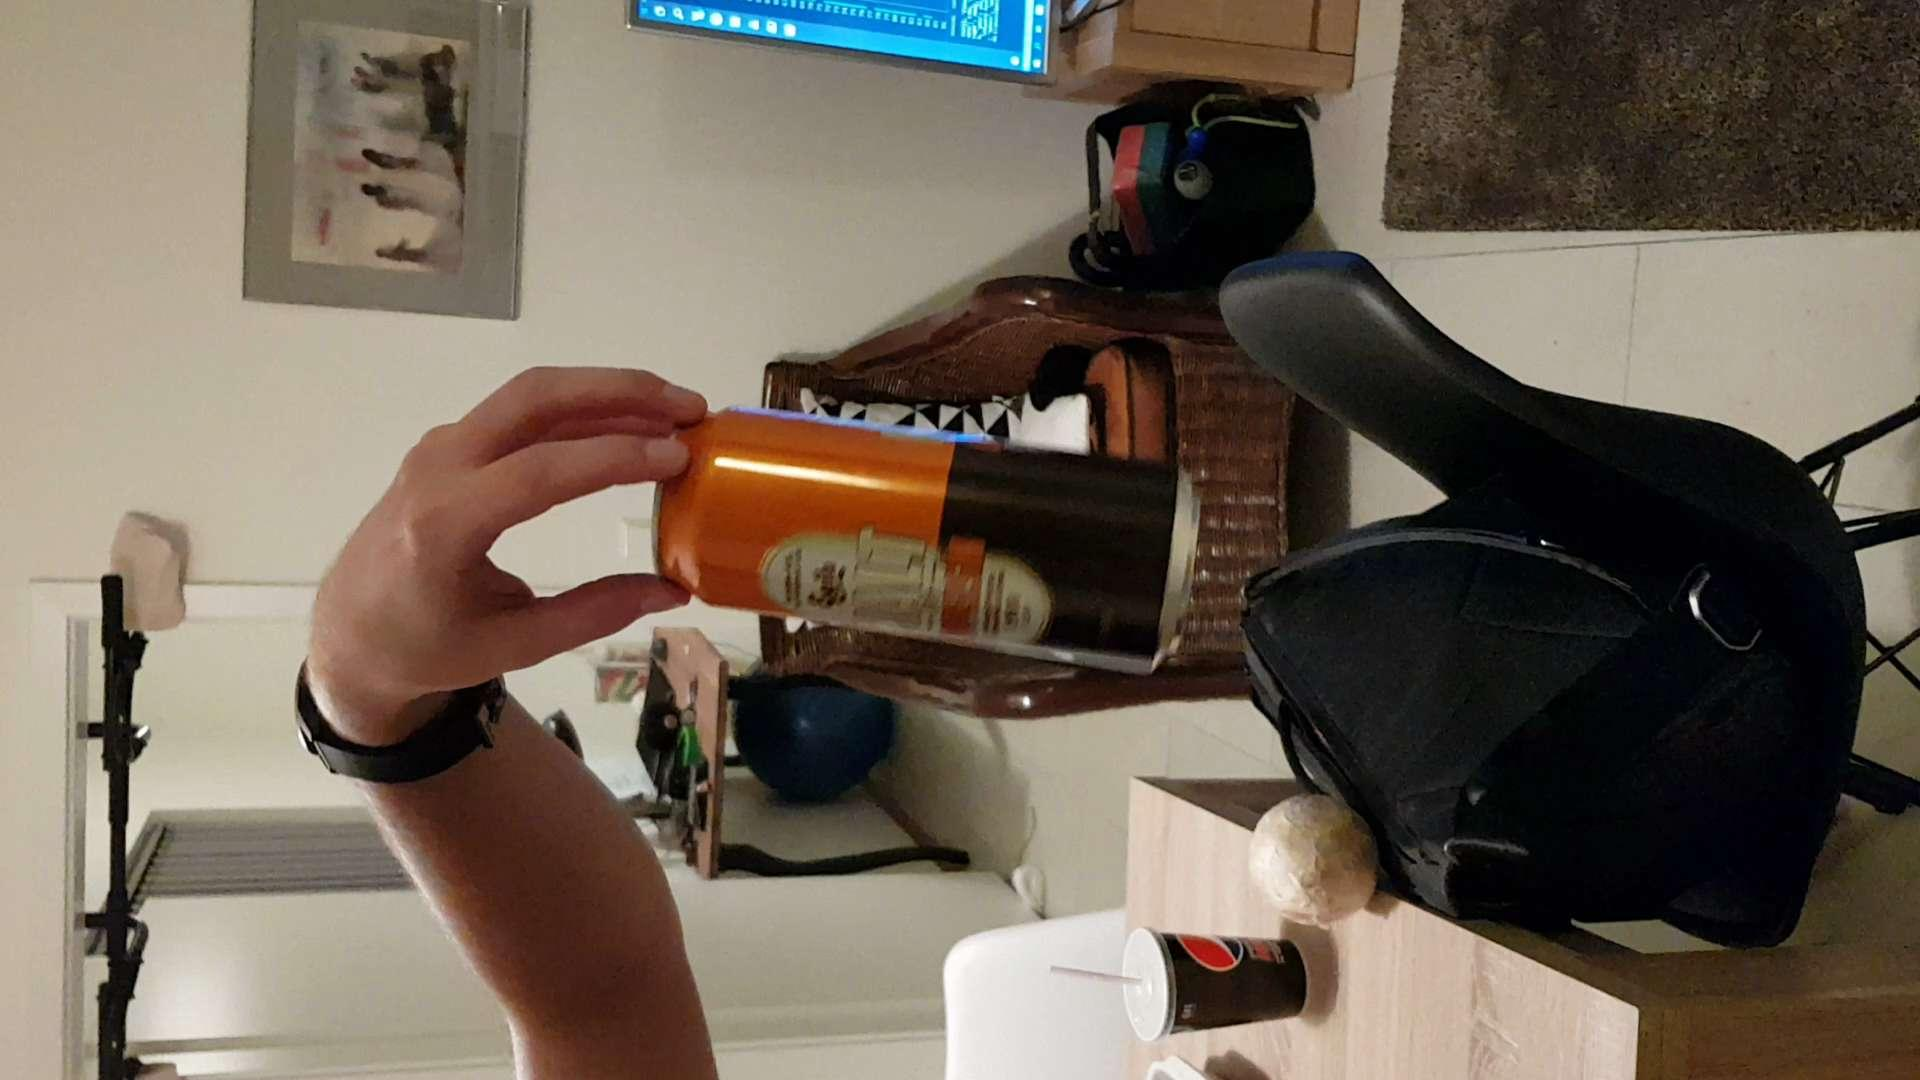Can: (644, 410, 1211, 669)
